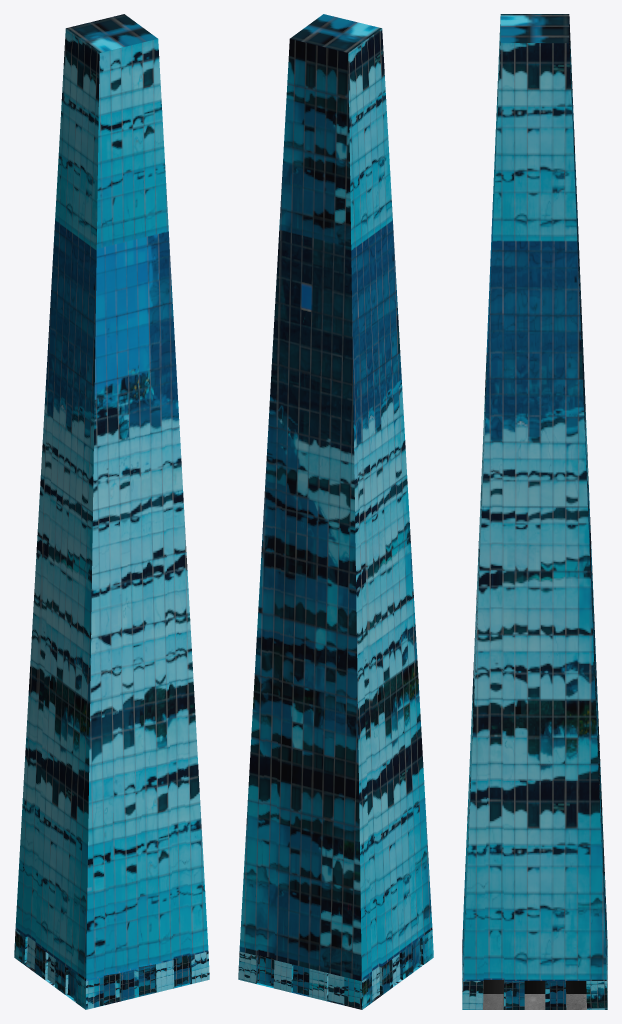
File: TOWER_02.fbx
3 renders of one model, left to right at view 1: azimuth 30°, elevation 25°; view 2: azimuth 150°, elevation 25°; view 3: azimuth 270°, elevation 25°, orthographic.
Visible parts, largest first — view 1: TOWER_02; view 2: TOWER_02; view 3: TOWER_02.
Part boxes in pixels (x1,y1,x2,y2): TOWER_02: [14, 14, 209, 1009]; TOWER_02: [238, 14, 433, 1009]; TOWER_02: [462, 14, 607, 1009].
Bounding box in the file's own units: 1980 × 14275 × 1980.
